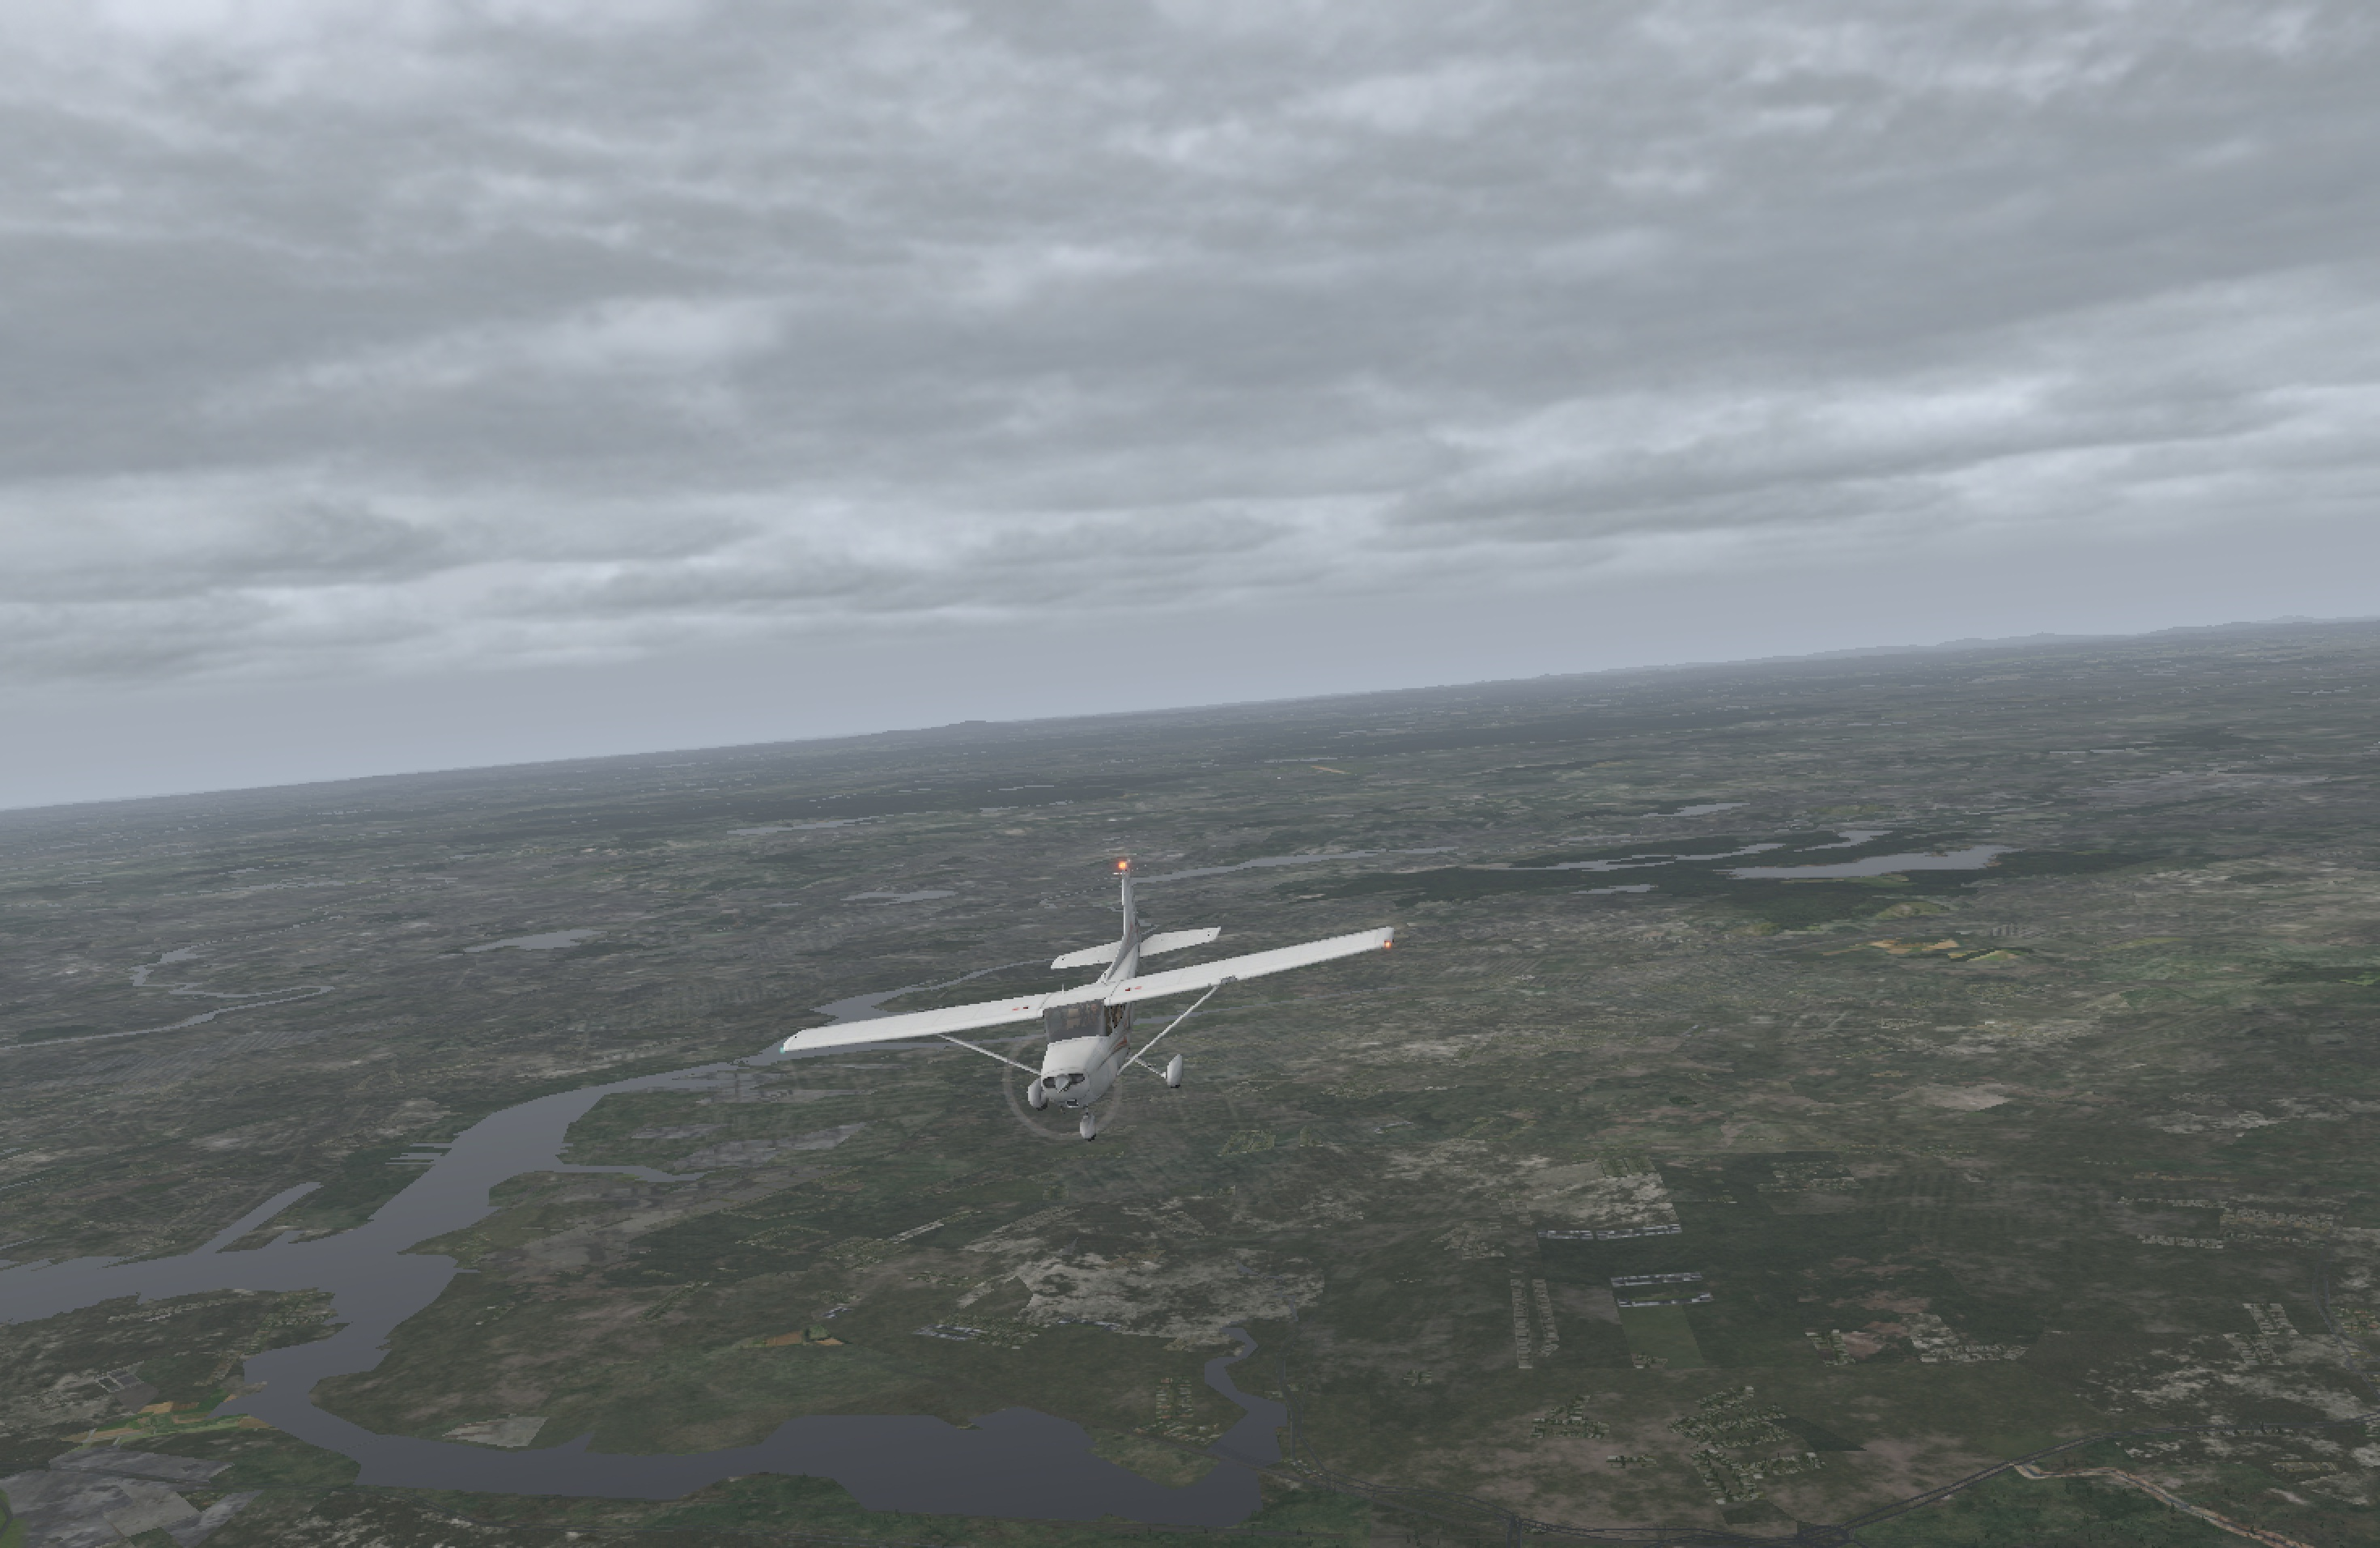aircraft: (859, 948, 1317, 1118)
